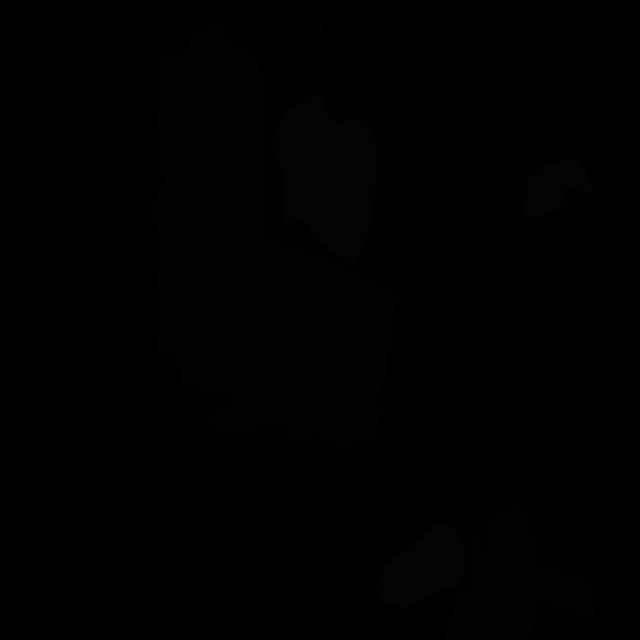cardboard: (152, 20, 286, 433), (267, 237, 400, 449), (470, 502, 537, 640), (537, 564, 597, 620), (443, 591, 473, 640)
rigid_plastic: (260, 0, 331, 61)
soft_plastic: (273, 96, 377, 265), (376, 521, 465, 610), (525, 159, 595, 218)
